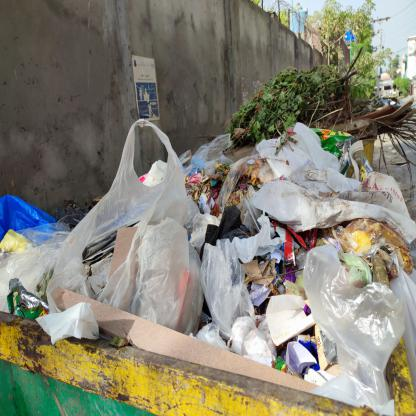Garbage: (1, 113, 416, 389)
